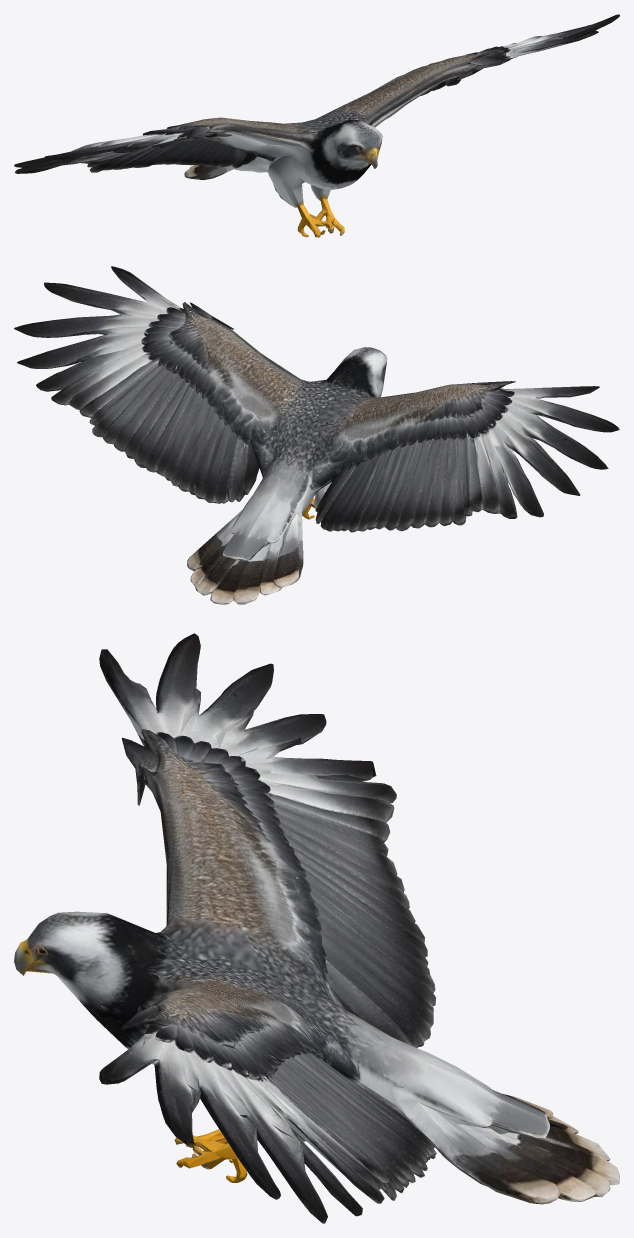
Rendered from fauna_eagle.glb.
3 renders of one model, top to bottom at view 1: azimuth 30°, elevation 25°; view 2: azimuth 150°, elevation 25°; view 3: azimuth 270°, elevation 25°, orthographic. The views are drawn at different scales.
Bounding box in the file's own units: 1.9 × 0.5362 × 0.9207.
1 material, 1 textured.
